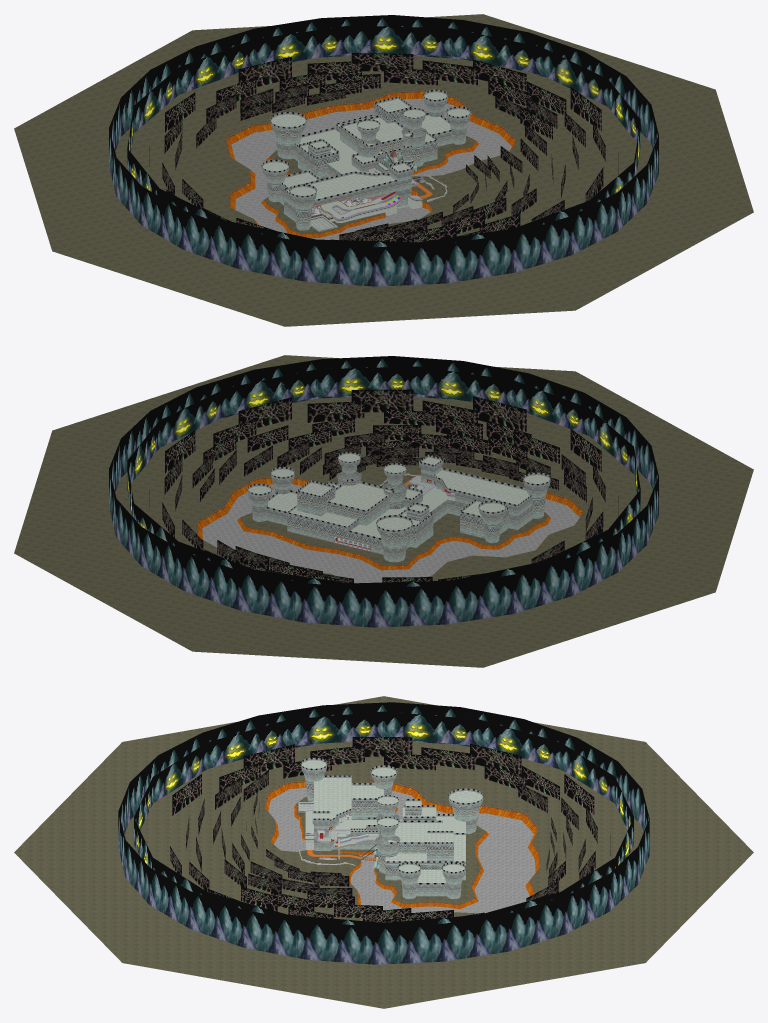
The picture shows the model from 3 angles, top to bottom: view 1: azimuth 30°, elevation 25°; view 2: azimuth 150°, elevation 25°; view 3: azimuth 270°, elevation 25°; orthographic projection. The views are drawn at different scales.
Parts seen in each view (by area): view 1: polygon1.024, polygon0.035, polygon5.018, polygon11.022, polygon8.021, polygon9.019; view 2: polygon1.024, polygon0.035, polygon5.018, polygon11.022, polygon8.021; view 3: polygon1.024, polygon0.035, polygon5.018, polygon11.022, polygon8.021, polygon4.021.
Part boxes in pixels (<box>): polygon1.024: <box>14,14,753,326</box>; polygon0.035: <box>109,15,658,286</box>; polygon5.018: <box>261,89,470,230</box>; polygon11.022: <box>231,98,511,239</box>; polygon8.021: <box>262,92,469,218</box>; polygon9.019: <box>310,193,401,231</box>; polygon1.024: <box>14,355,753,667</box>; polygon0.035: <box>109,356,658,627</box>; polygon5.018: <box>247,452,550,562</box>; polygon11.022: <box>202,484,579,583</box>; polygon8.021: <box>248,454,549,550</box>; polygon1.024: <box>14,696,753,1008</box>; polygon0.035: <box>118,702,649,964</box>; polygon5.018: <box>300,757,483,899</box>; polygon11.022: <box>268,787,535,913</box>; polygon8.021: <box>302,760,482,882</box>; polygon4.021: <box>299,811,379,865</box>.
Size of the model in its own units: 247864 by 20302 by 247864.
18 materials, 18 textured.
